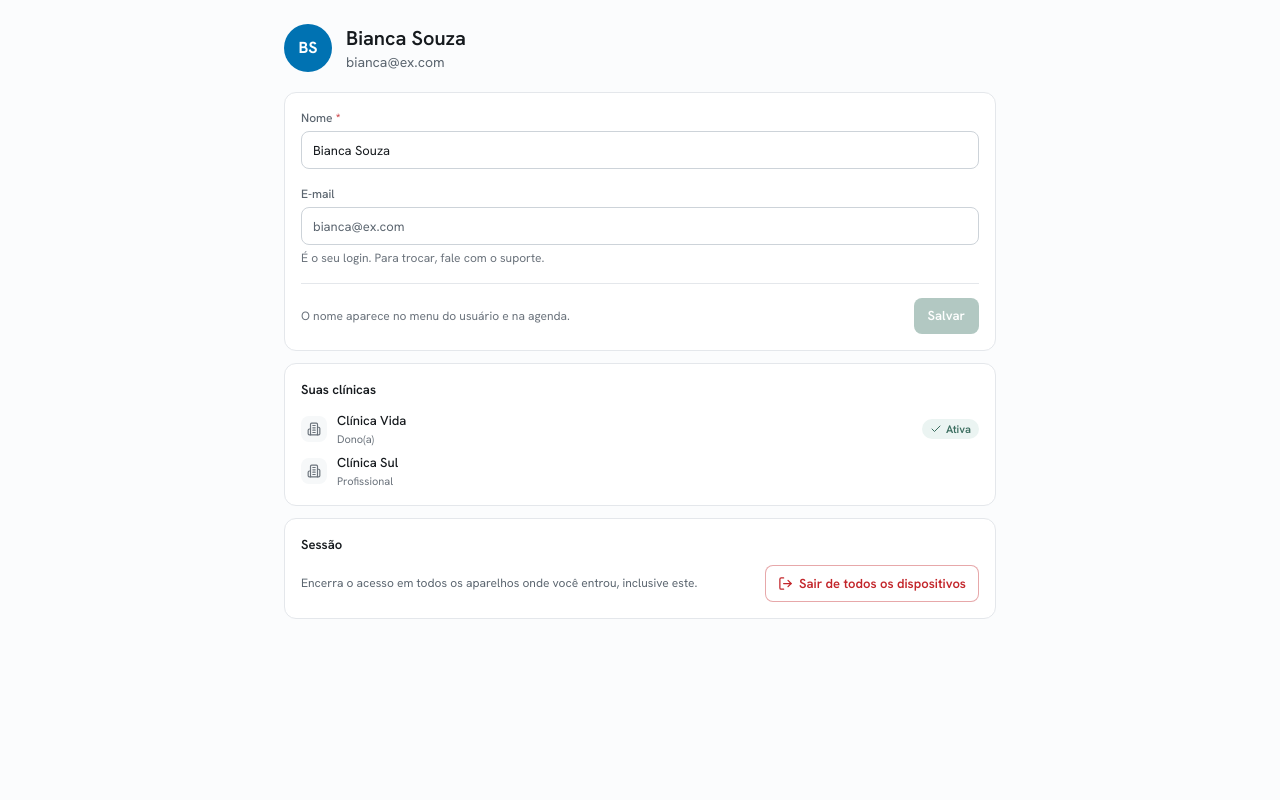
it: Meu perfil — sair de todos os dispositivos › o botão abre a confirmação e o form aponta para /auth/sign-out-everywhere
The image size is (1280, 800).
Step 1. Click the button "Sair de todos os dispositivos" → (872, 583), box x1=765 y1=564 x2=979 y2=602
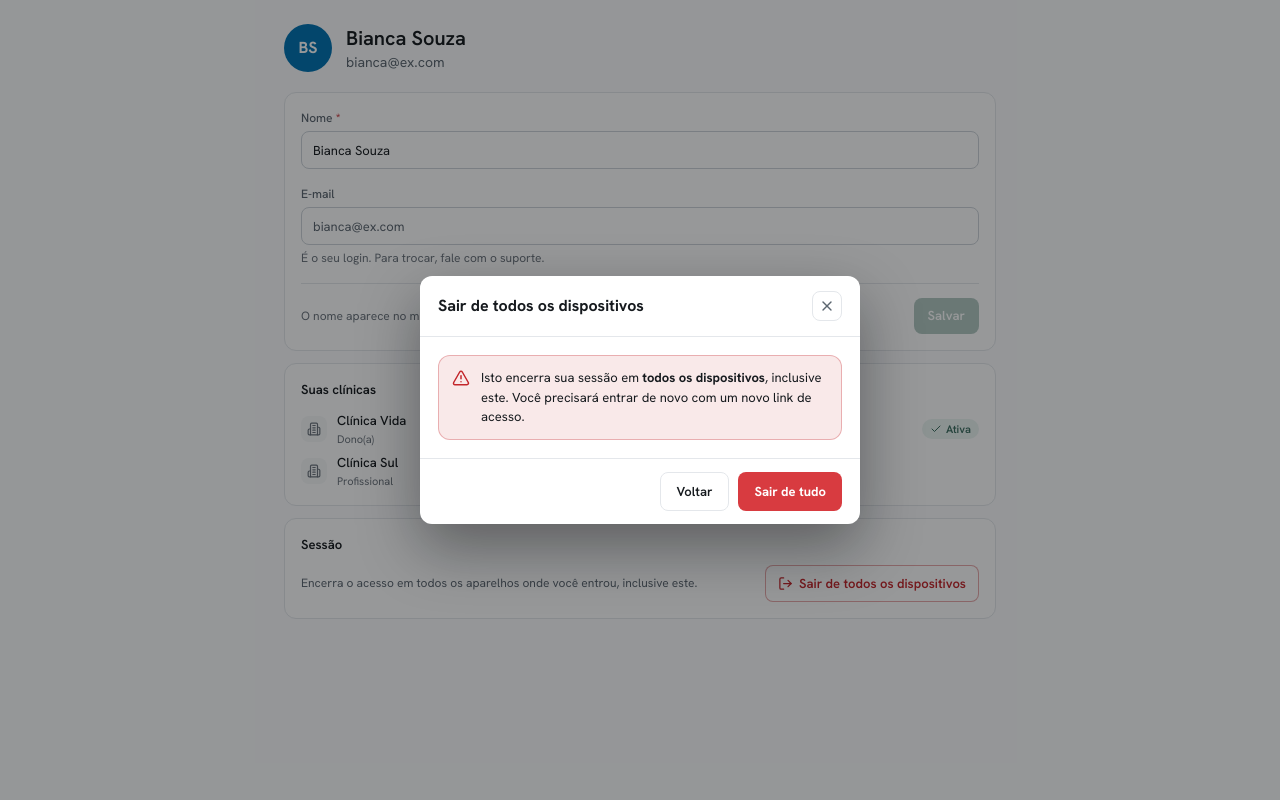
Check: the text "precisará entrar de novo" is shown, box x1=481 y1=369 x2=822 y2=425
Check: the button "Sair de tudo" is shown, box x1=738 y1=472 x2=842 y2=511
